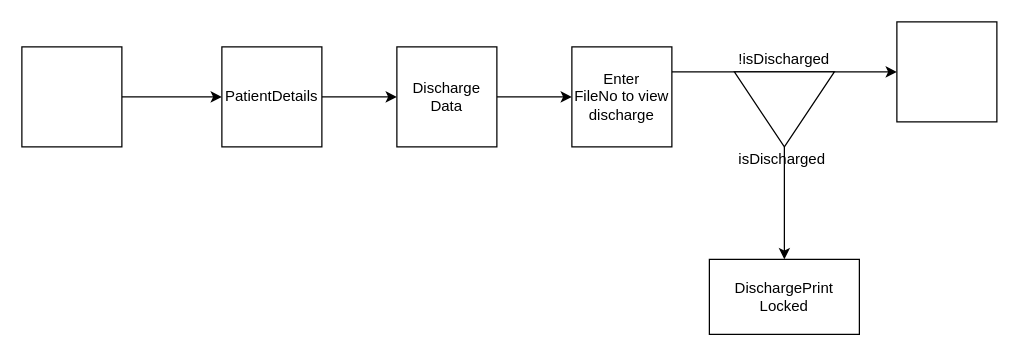
This 1019x356 diagram has some shape labels left out. The box of each missing label's shape, as (x1, y1, x2, y2) in pixels:
Discharge edit Print: (896, 21, 997, 122)
IPD Form: (21, 46, 122, 147)
